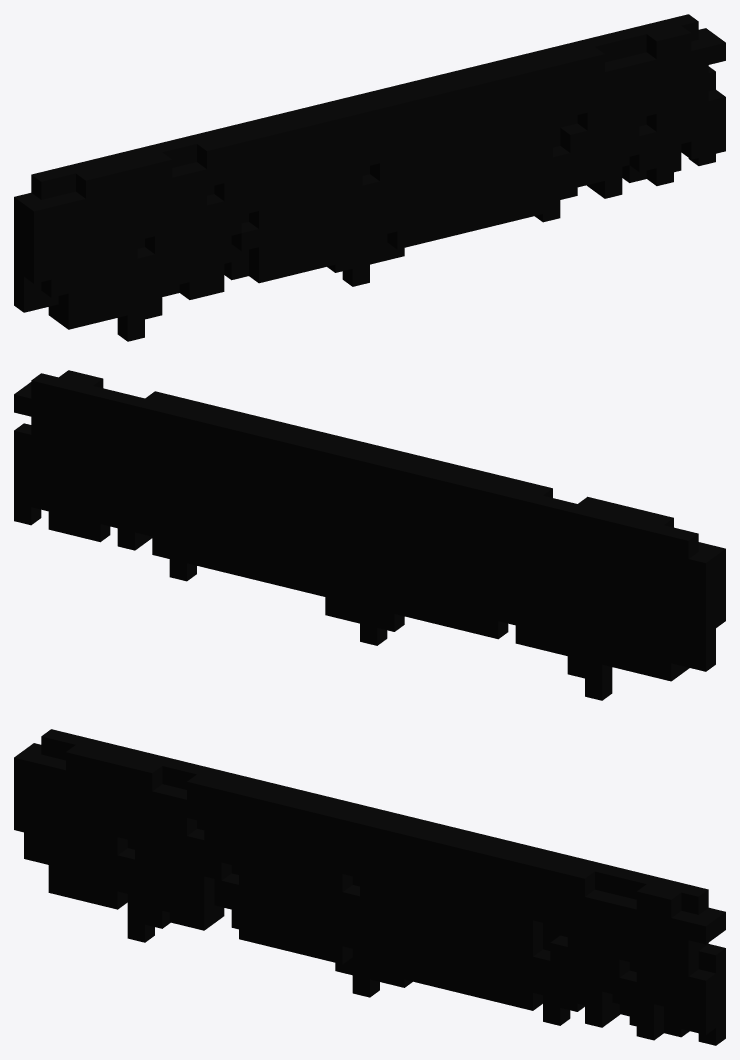
File: Button_Flesh.002.fbx
3 renders of one model, top to bottom at view 1: azimuth 30°, elevation 25°; view 2: azimuth 150°, elevation 25°; view 3: azimuth 330°, elevation 25°, orthographic.
Visible parts, largest first — view 1: Button_Flesh.002; view 2: Button_Flesh.002; view 3: Button_Flesh.002.
Part boxes in pixels (box(x1,y1,x2,y2)): Button_Flesh.002: box(14, 14, 725, 341); Button_Flesh.002: box(14, 370, 725, 700); Button_Flesh.002: box(14, 729, 725, 1045).
Size of the model in its own units: 4 by 1 by 0.2.
